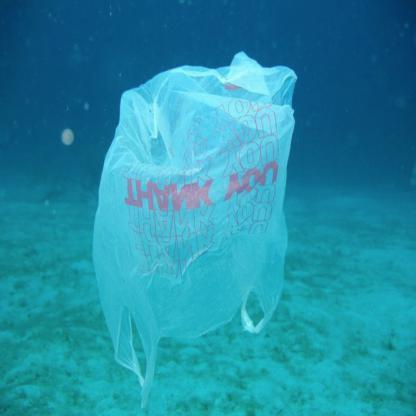Rác: (80, 48, 308, 374)
